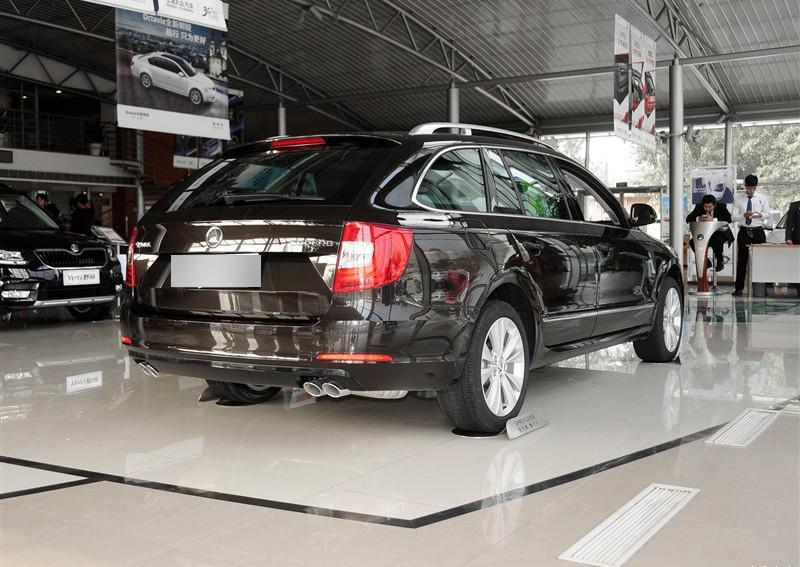Wagon: (120, 121, 685, 436)
